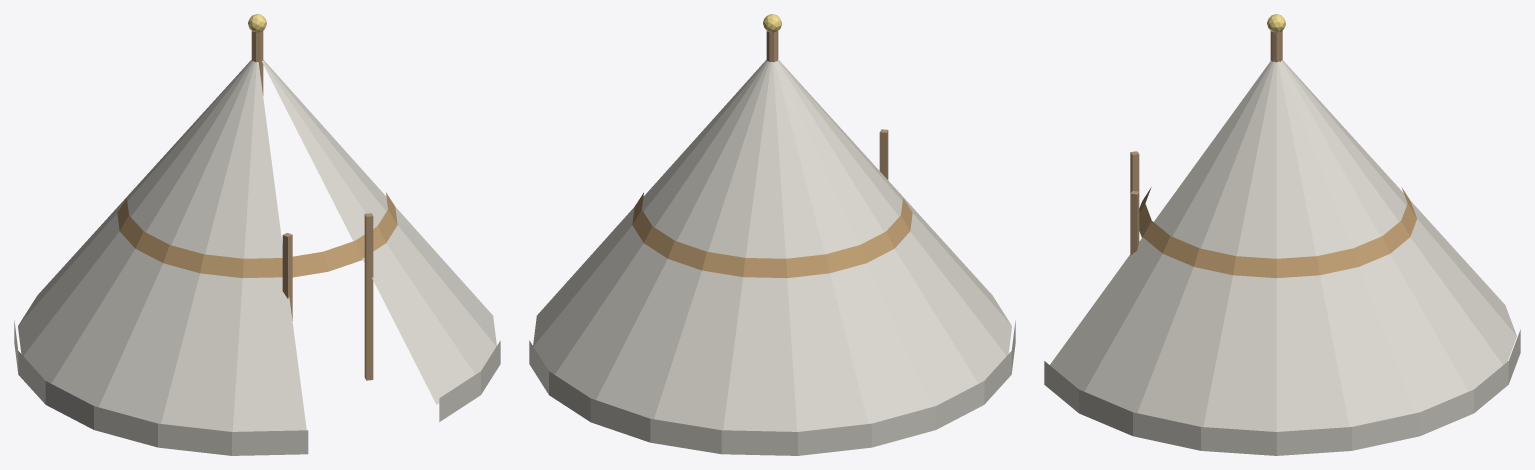
The model's file is tent.glb.
3 renders of one model, left to right at view 1: azimuth 30°, elevation 25°; view 2: azimuth 150°, elevation 25°; view 3: azimuth 270°, elevation 25°, orthographic.
Visible parts, largest first — view 1: Canvas, DoorPosts, Pole; view 2: Canvas, Pole; view 3: Canvas, DoorPosts, Pole.
Boxes of the visible parts, x1,y1,x2,y2 form: Canvas: (14,59,500,455); DoorPosts: (282,213,373,380); Pole: (248,14,266,95); Canvas: (529,59,1015,455); Pole: (763,14,781,62); Canvas: (1044,60,1520,455); DoorPosts: (1130,151,1139,255); Pole: (1267,14,1285,62).
Size of the model in its own units: 4.06 by 3.1 by 3.96.
